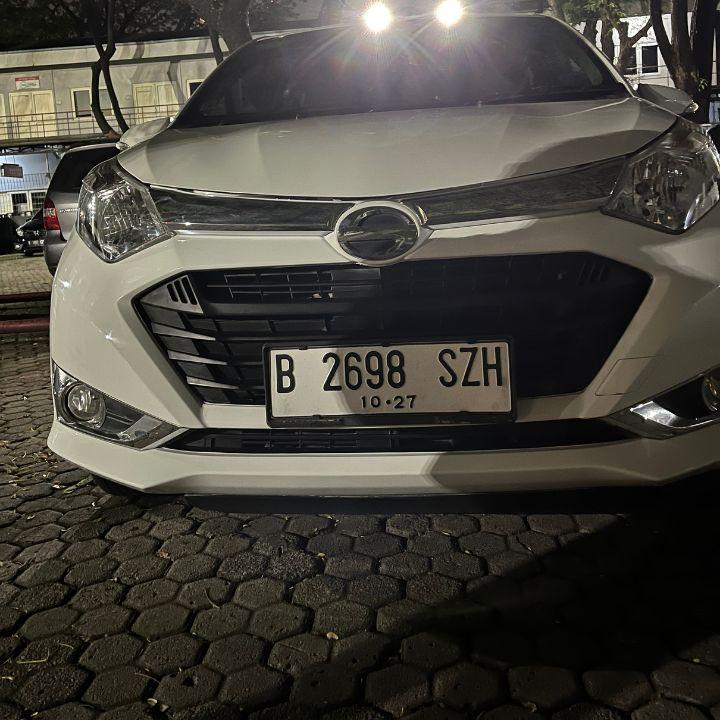plat: (269, 340, 512, 419)
